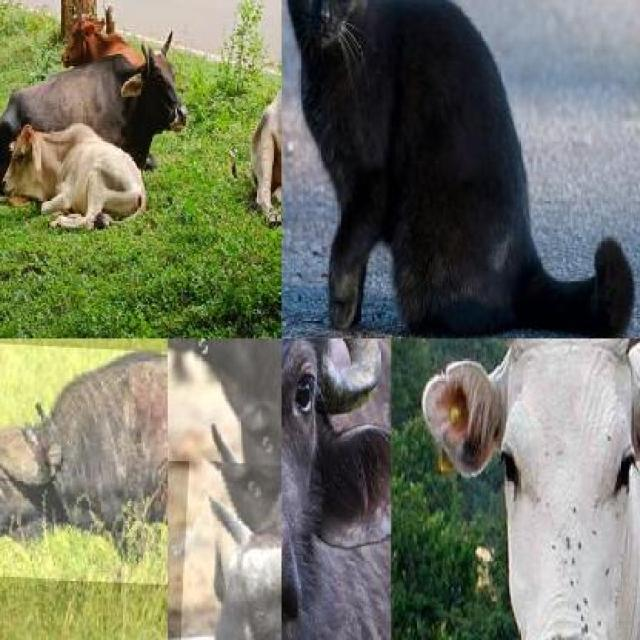buffalo: (0, 340, 168, 589), (169, 338, 282, 640), (282, 338, 372, 640), (168, 338, 282, 469)
cat: (281, 0, 636, 338)
cow: (475, 338, 640, 640), (0, 34, 191, 146), (2, 112, 146, 233), (52, 13, 117, 64)
injured: (143, 366, 168, 526)
